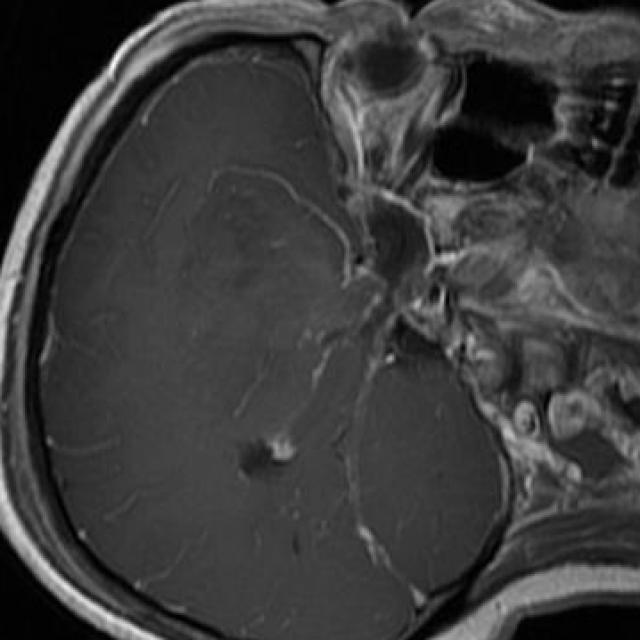glioma: (193, 173, 380, 337)
